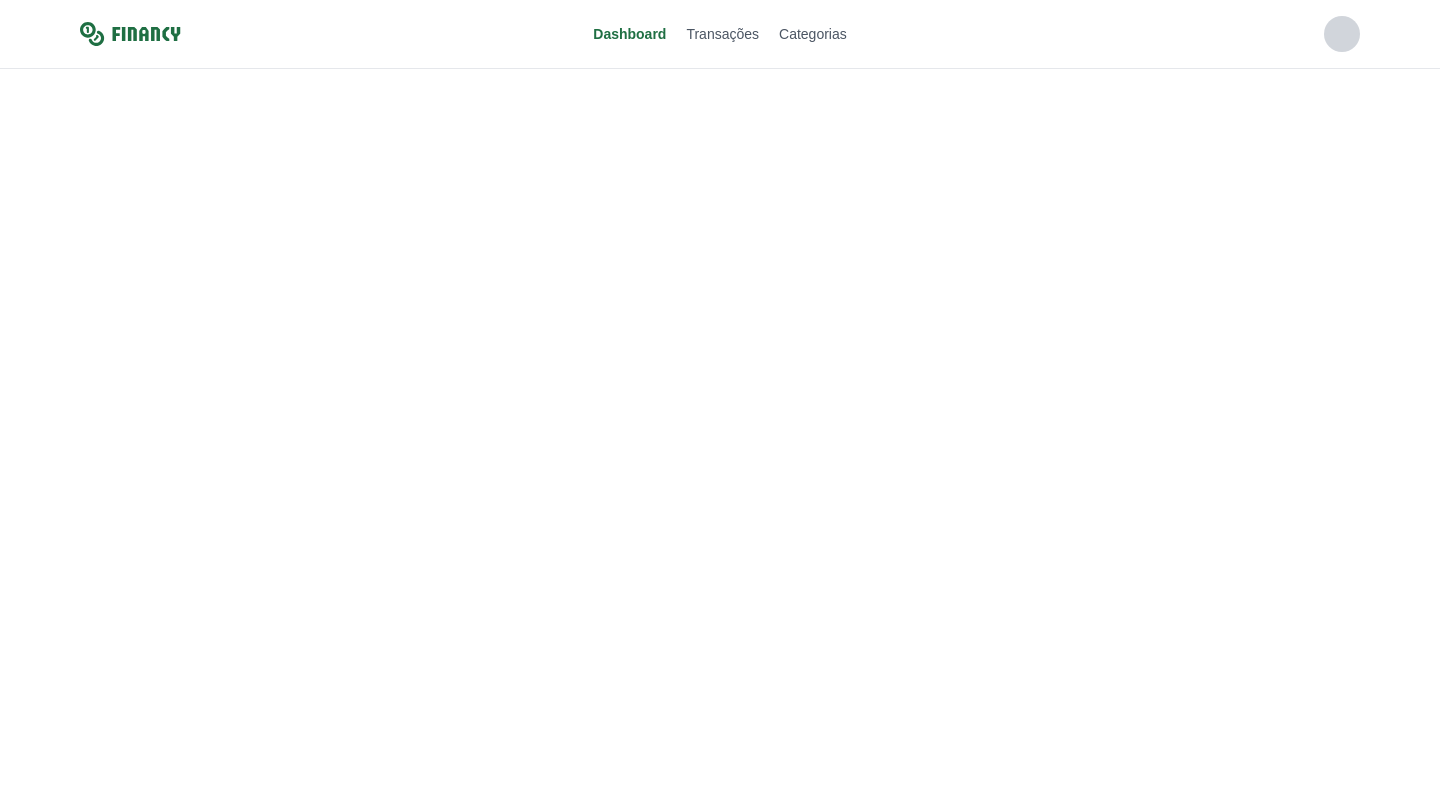
Test: Header › reveals a "Sair" option when the avatar is clicked
Check: the button "sair" is not shown
Click the button with test id "header-avatar": (1342, 34) [1324, 16, 1360, 52]
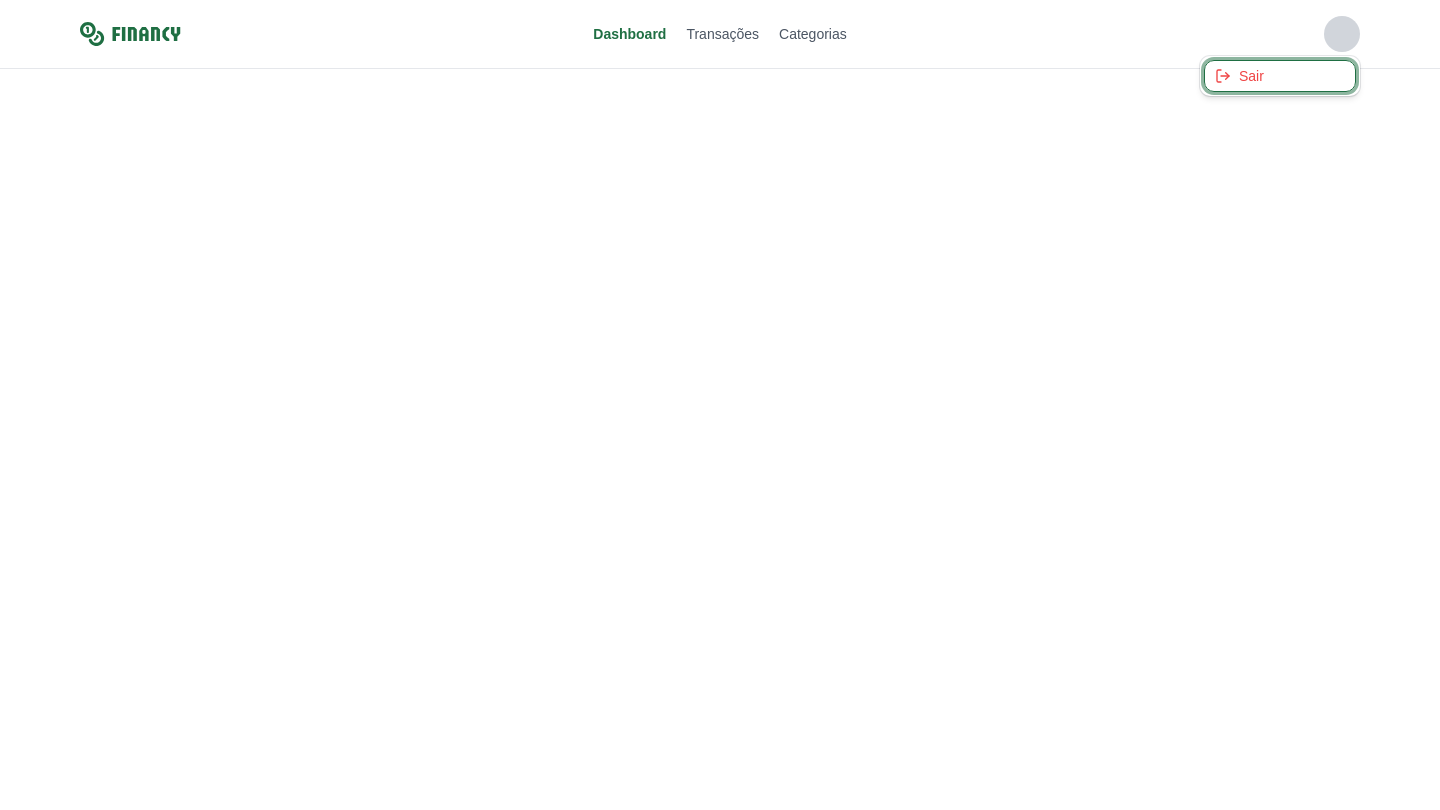
Check: the button "Sair" is shown, box [1204, 60, 1356, 92]
